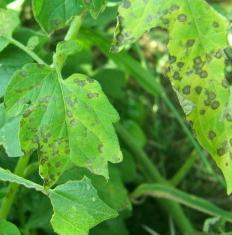Tomato Septoria leaf spot: (114, 0, 232, 186), (0, 59, 126, 189)
